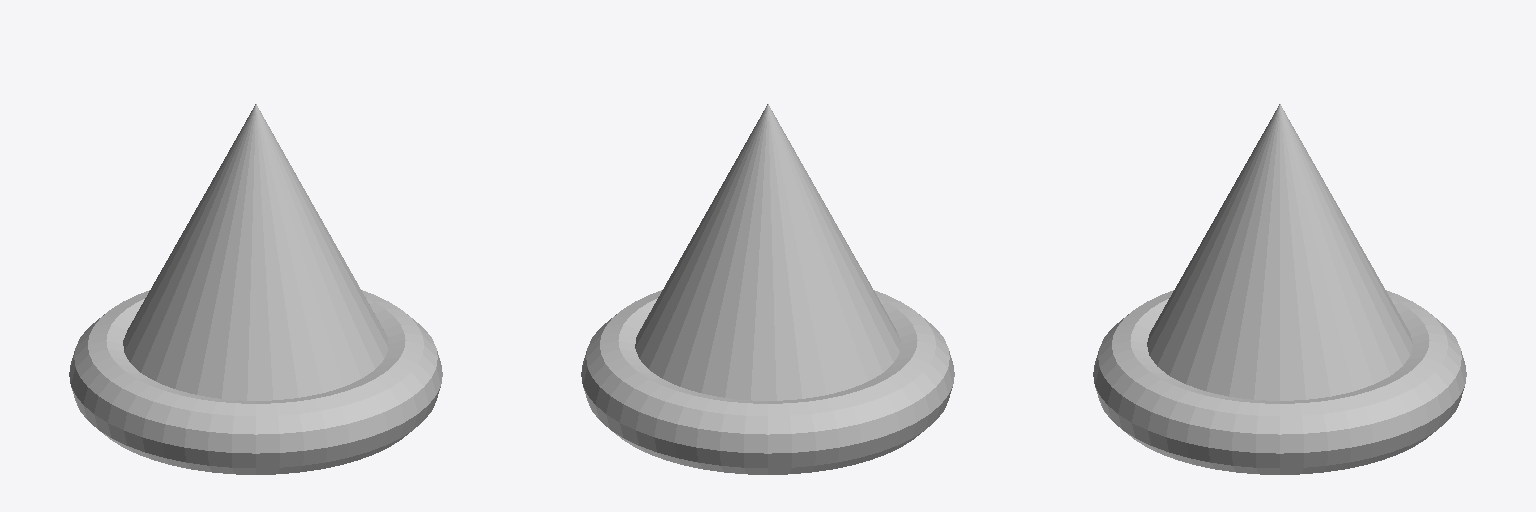
Rendered from hat.obj.
The picture shows the model from 3 angles: view 1: azimuth 30°, elevation 25°; view 2: azimuth 150°, elevation 25°; view 3: azimuth 270°, elevation 25°; orthographic projection.
Parts seen in each view (by area): view 1: Cone; view 2: Cone; view 3: Cone.
Part boxes in pixels (x1,y1,x2,y2): Cone: (69, 104, 442, 474); Cone: (581, 104, 954, 474); Cone: (1093, 104, 1466, 474).
Bounding box in the file's own units: 2.5 × 2.25 × 2.5.